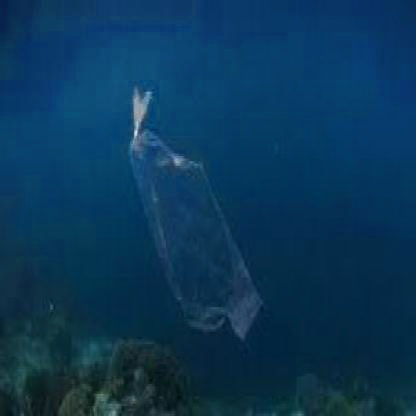pbag: (110, 72, 270, 344)
